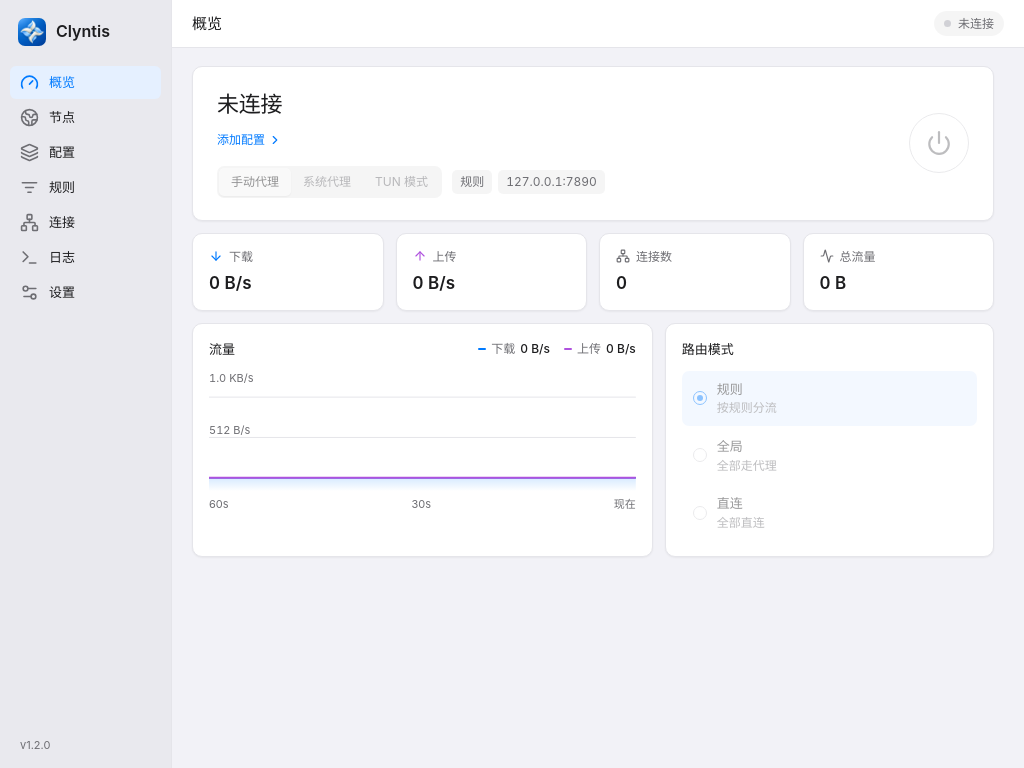
desktop workflows › shows skipped items after importing a new compatible profile
Click the button "配置" at (86, 152), box [10,136,161,169]
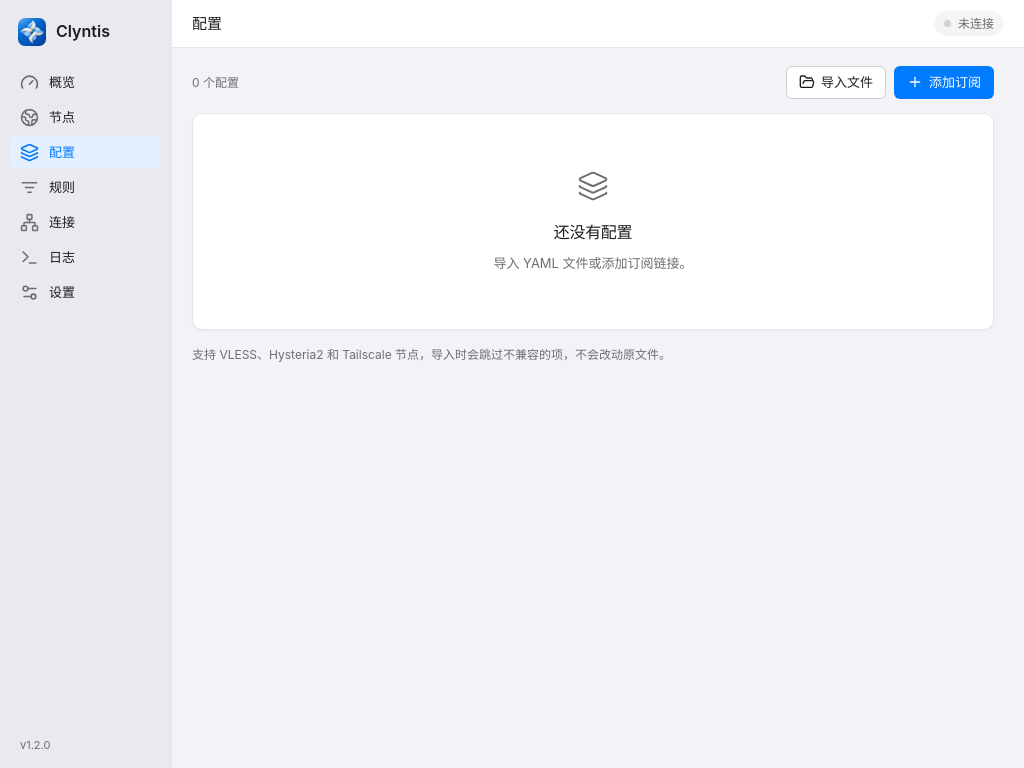
Now the button "导入文件" is enabled
Click the button "导入文件" at (836, 82), box [786,66,886,99]
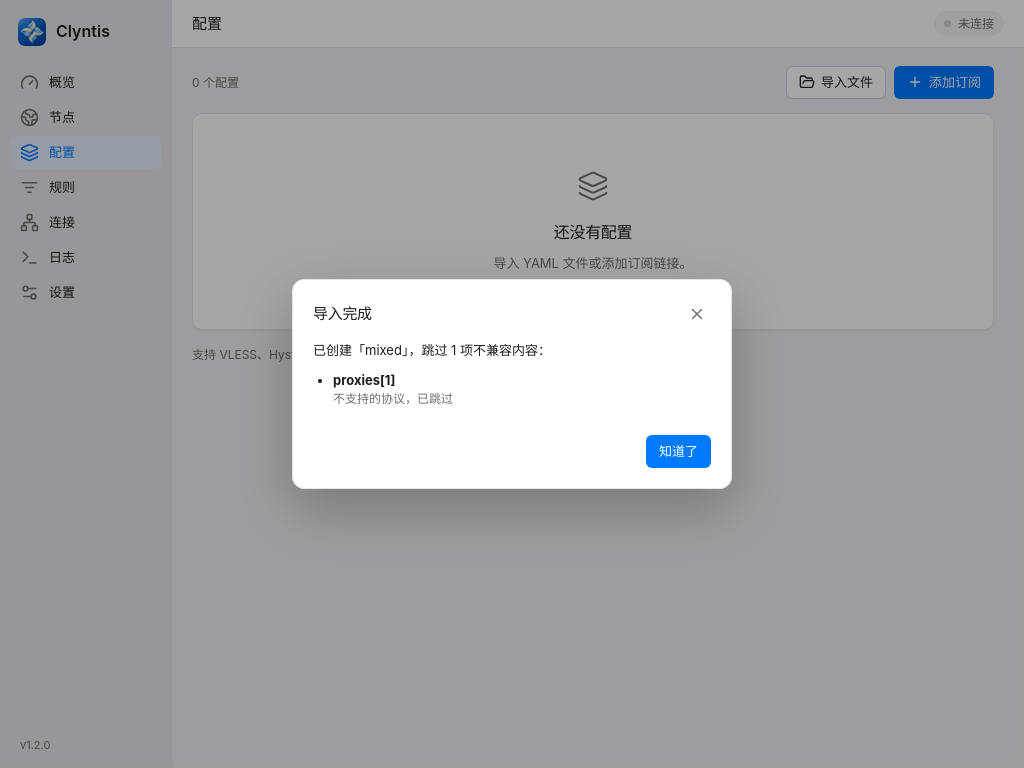
Now the dialog "导入完成" shows "跳过 1 项不兼容内容", box [292,279,732,489]
Now the text "proxies[1]" is shown, box [333,372,395,388]
Now the text "不支持的协议，已跳过" is shown, box [333,391,453,406]
Click the button "知道了" at (678, 452), box [646,435,711,468]
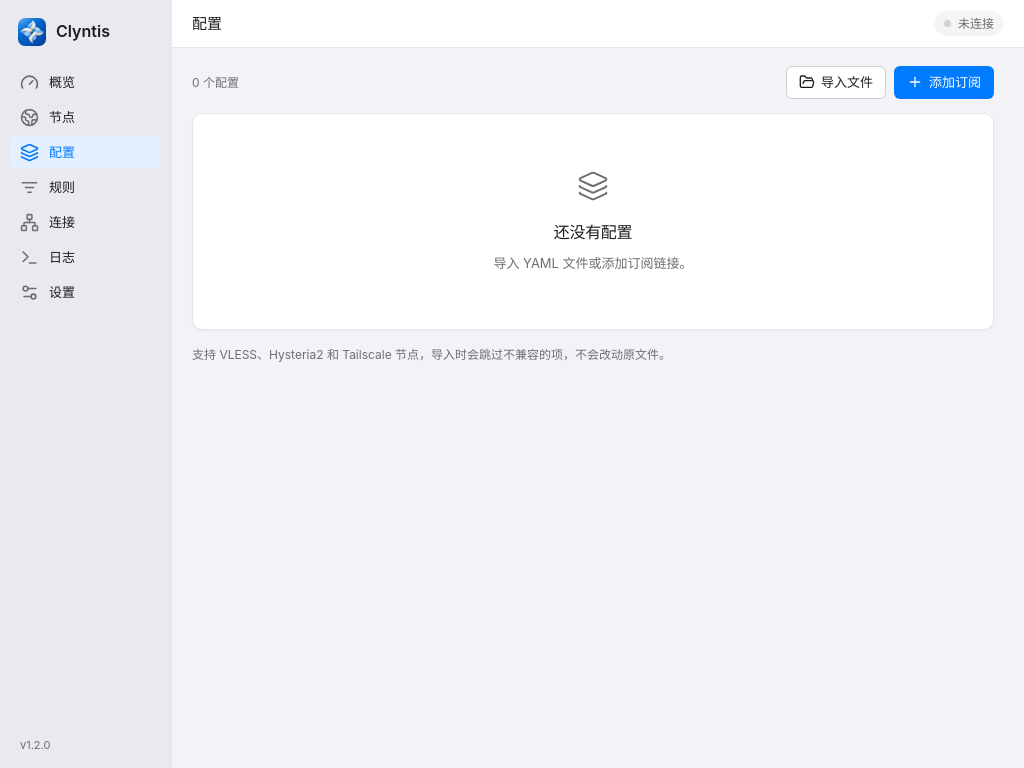
Now the dialog is gone
